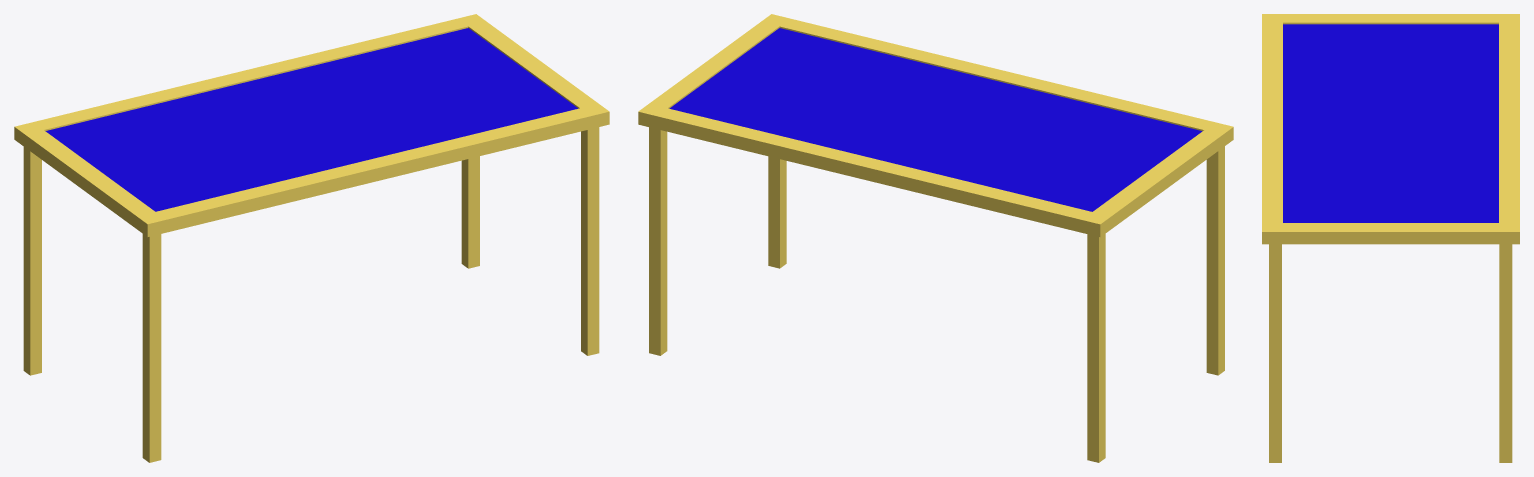
The model's file is Table_Dining_01.glb.
3 renders of one model, left to right at view 1: azimuth 30°, elevation 25°; view 2: azimuth 150°, elevation 25°; view 3: azimuth 270°, elevation 25°, orthographic. The views are drawn at different scales.
Visible parts, largest first — view 1: Table_Dining_Glass, Table_Dining; view 2: Table_Dining_Glass, Table_Dining; view 3: Table_Dining_Glass, Table_Dining.
Part boxes in pixels (box(x1,y1,x2,y2)): Table_Dining_Glass: box(45, 28, 577, 211); Table_Dining: box(14, 14, 609, 462); Table_Dining_Glass: box(669, 28, 1202, 211); Table_Dining: box(638, 14, 1233, 462); Table_Dining_Glass: box(1283, 24, 1498, 222); Table_Dining: box(1262, 14, 1519, 462).
Size of the model in its own units: 2 by 1 by 1.
2 materials, 1 textured.
